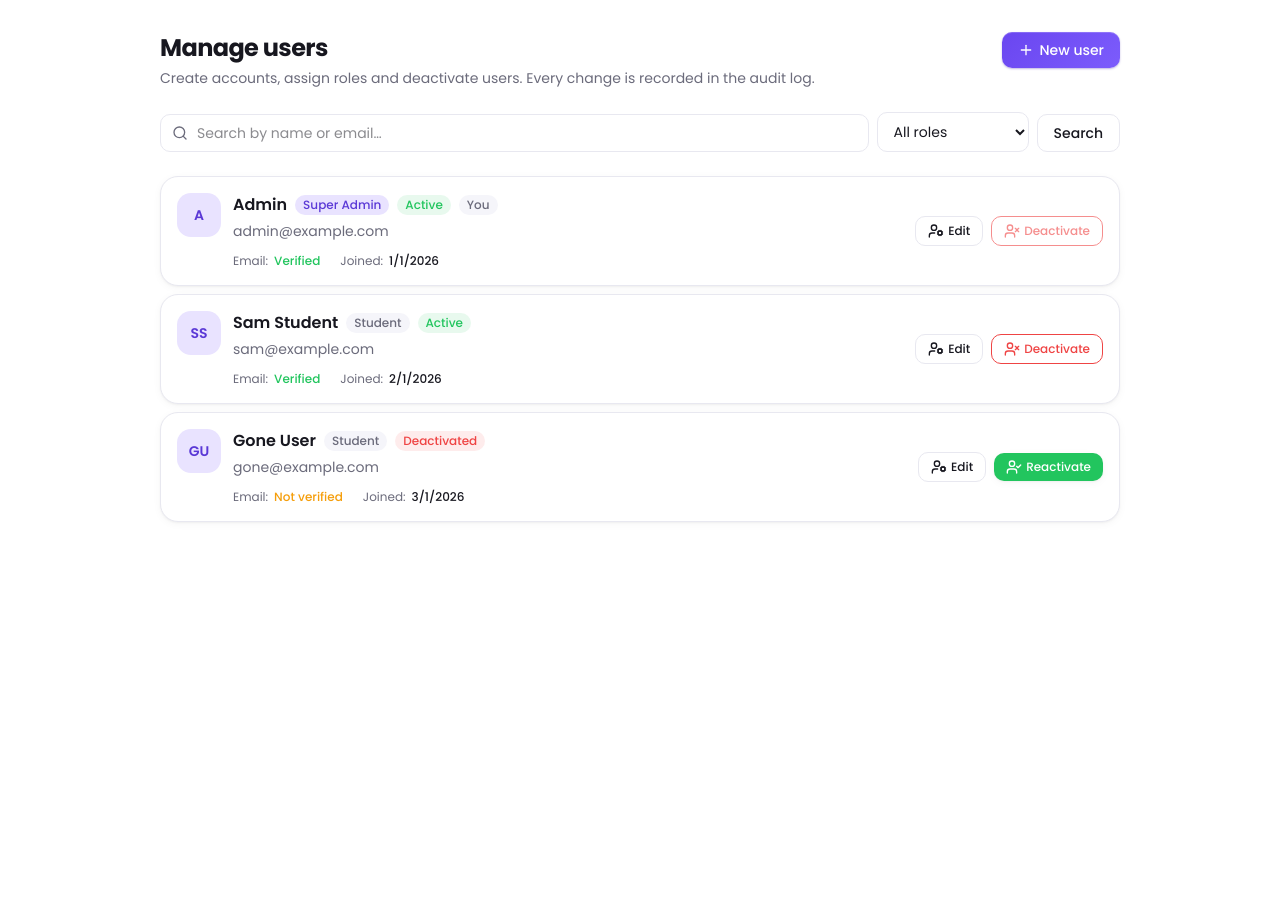
Test: UserManagementPage › locks the role selector when editing yourself
The image size is (1280, 900).
Expected: the text "Sam Student" is shown, [233,311,338,335]
Click the button with aria-label "Edit Admin": {"x": 949, "y": 231} [915,216,983,246]
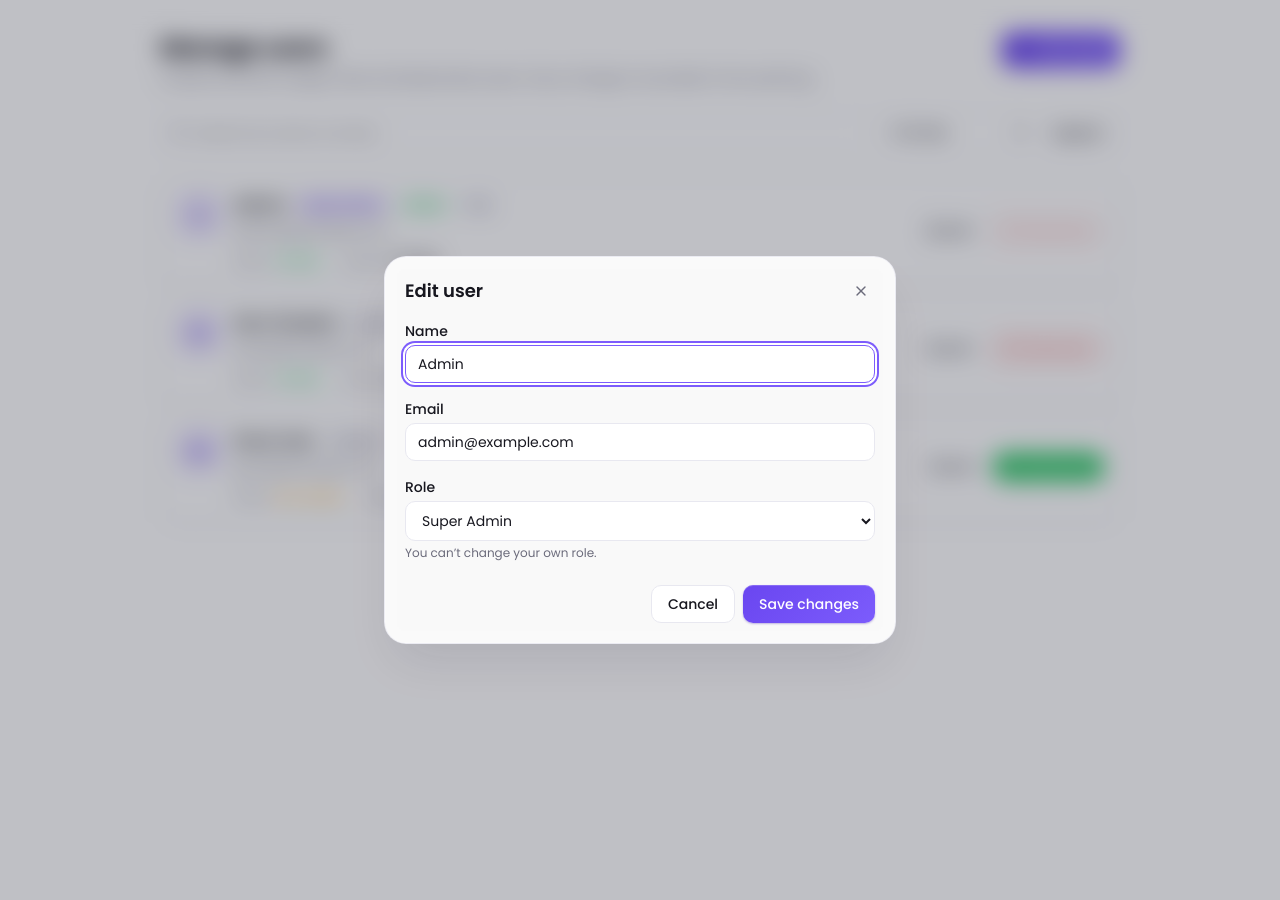
Now the dropdown labelled "Role" is disabled, box [405,501,875,541]
